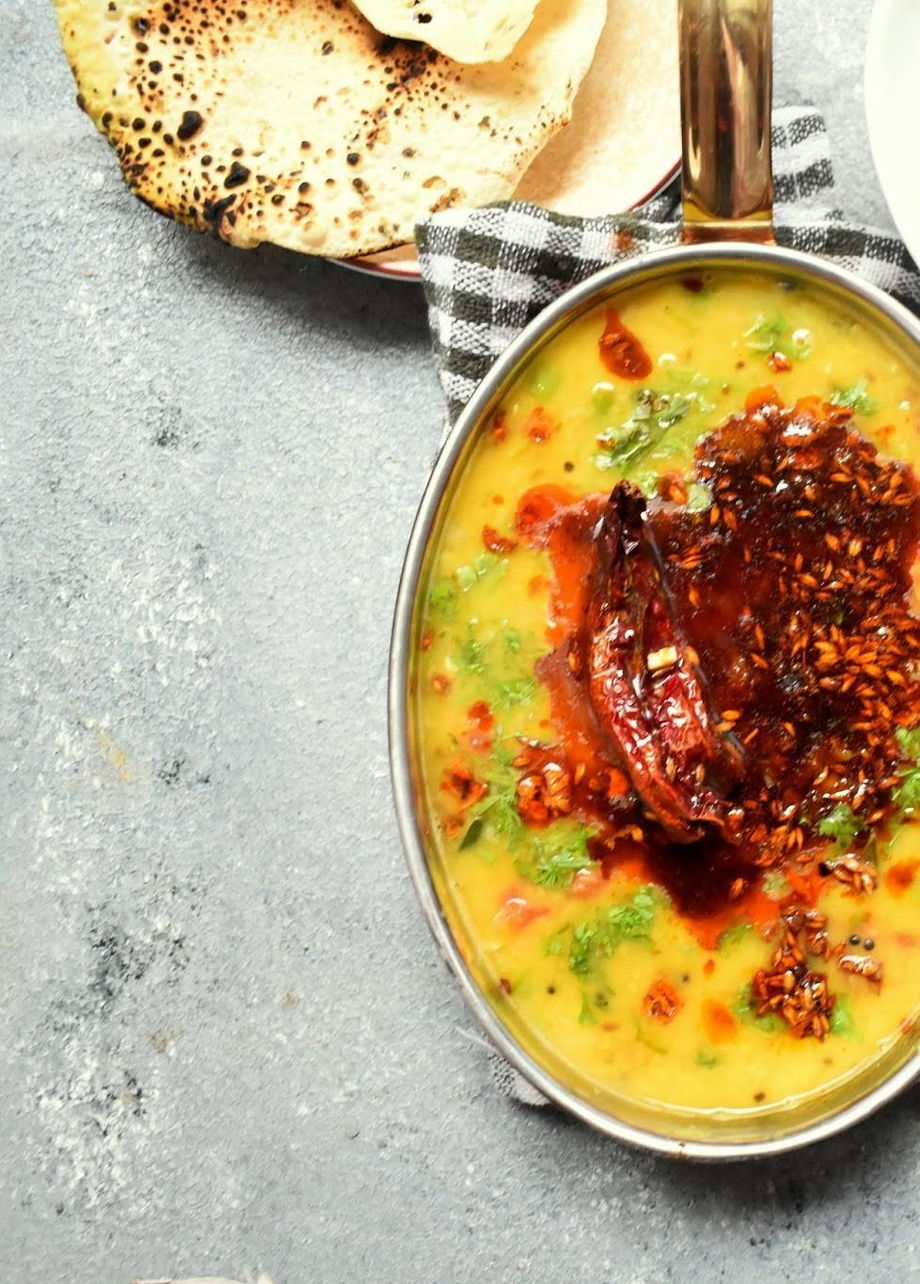Dal: (415, 273, 920, 1114)
